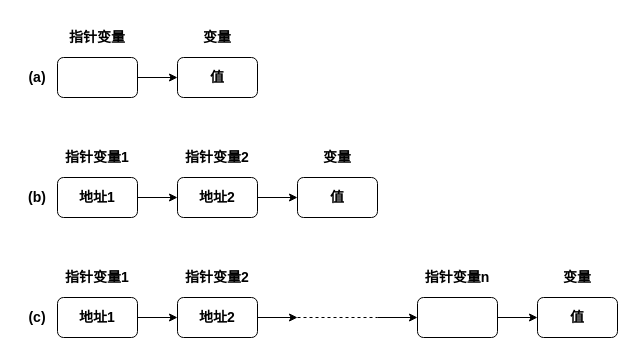
This 635x355 diagram has some shape labels left out. Each missing label, with the box of its shape:
地址: (56, 56, 138, 98)
地址n: (416, 296, 498, 338)
